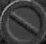No waiting: (2, 2, 42, 40)
